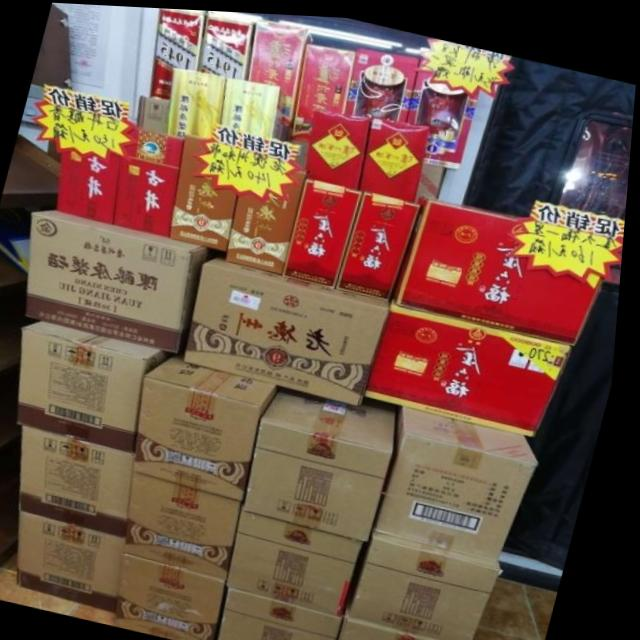box: (187, 254, 397, 401), (29, 209, 231, 352), (368, 298, 576, 429), (379, 399, 545, 555), (248, 384, 408, 536), (139, 350, 287, 497), (23, 319, 181, 451), (352, 527, 512, 640), (234, 506, 371, 612), (132, 467, 251, 579), (27, 424, 141, 536), (26, 509, 134, 610), (123, 551, 234, 640), (228, 584, 355, 640), (346, 613, 471, 640)
